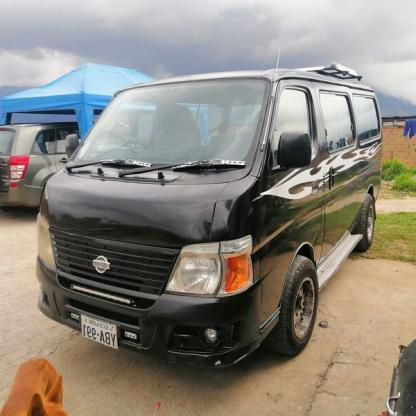Placa: (77, 311, 119, 352)
